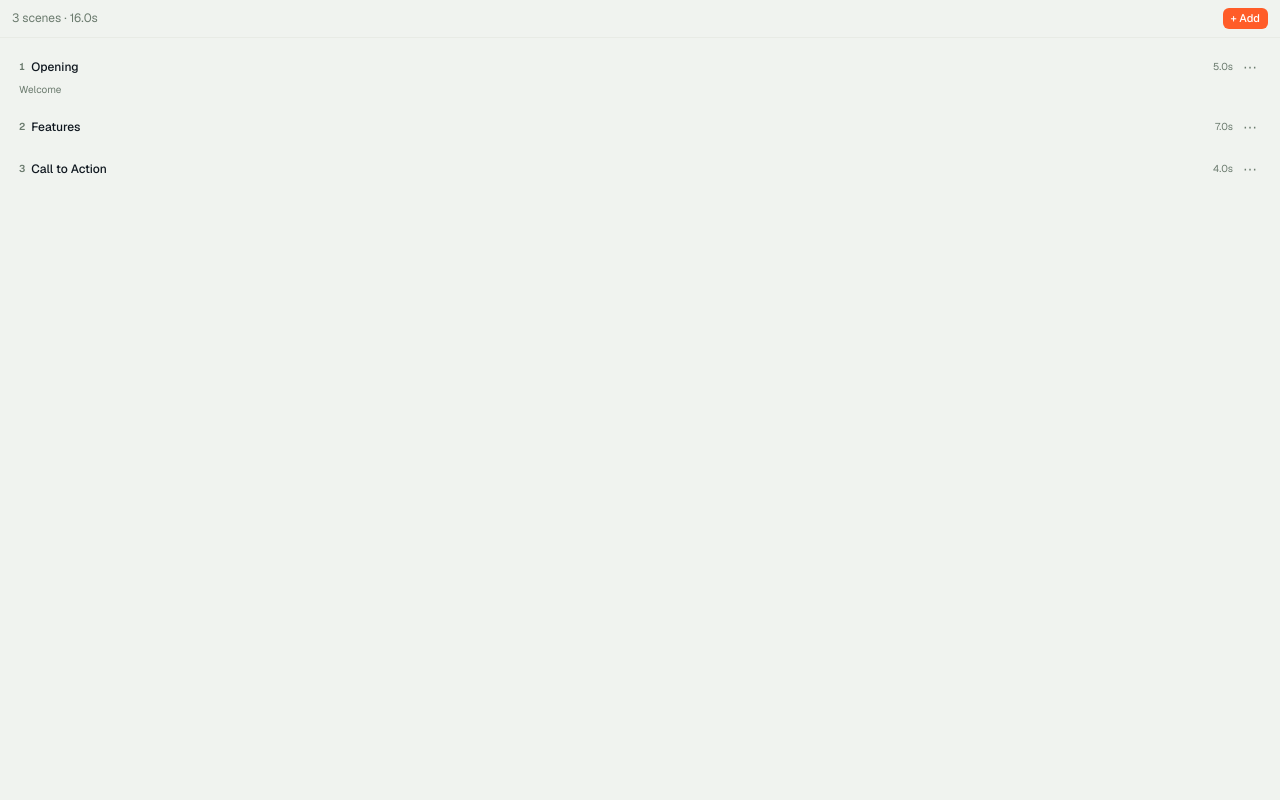
SceneList › shows add scene modal when + Add is clicked
Click the button "+ Add" at (1245, 18), box x1=1222 y1=8 x2=1268 y2=28
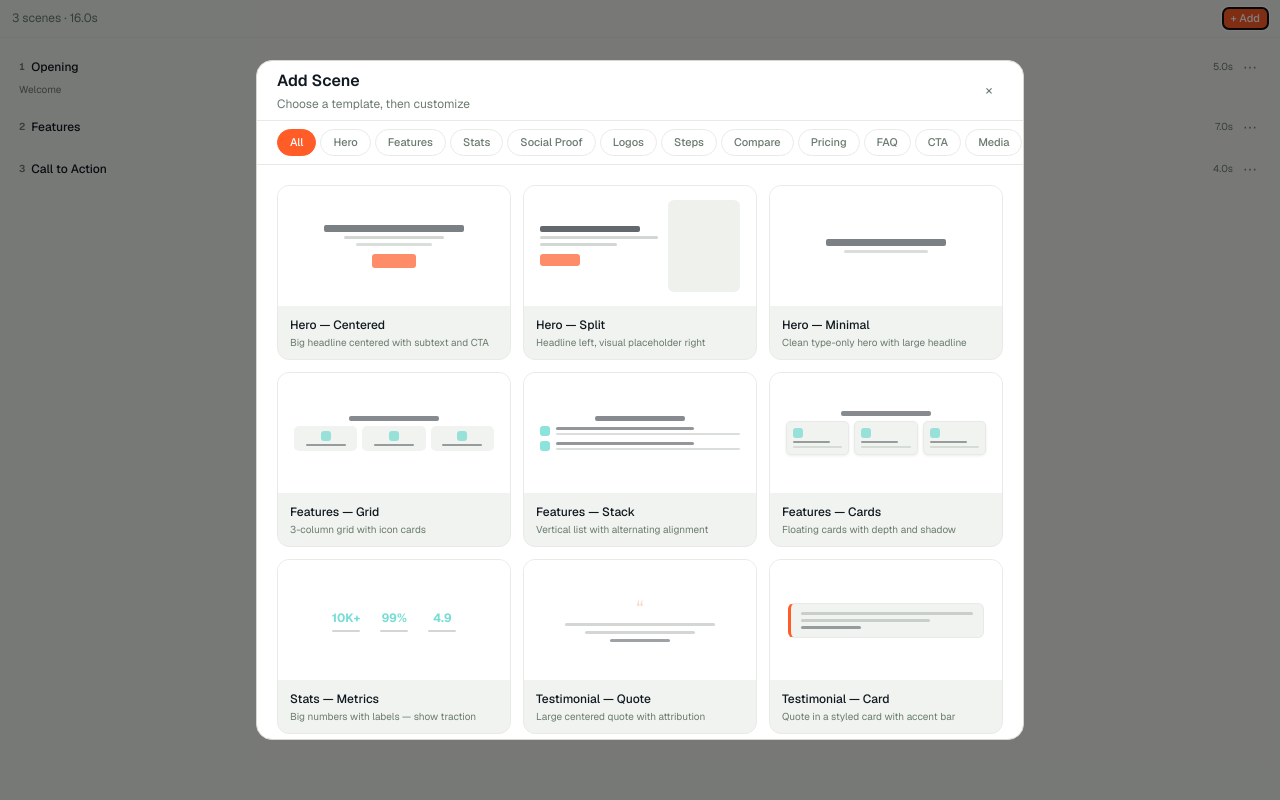
Expected: the heading "Add Scene" is shown, x1=277 y1=70 x2=360 y2=90
Expected: the text "Choose a template, then customize" is shown, x1=277 y1=94 x2=470 y2=112
